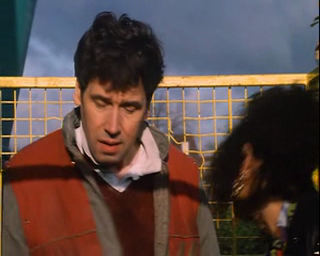face: (83, 87, 146, 166)
mcu: (1, 1, 320, 256)
person: (2, 12, 221, 256)
